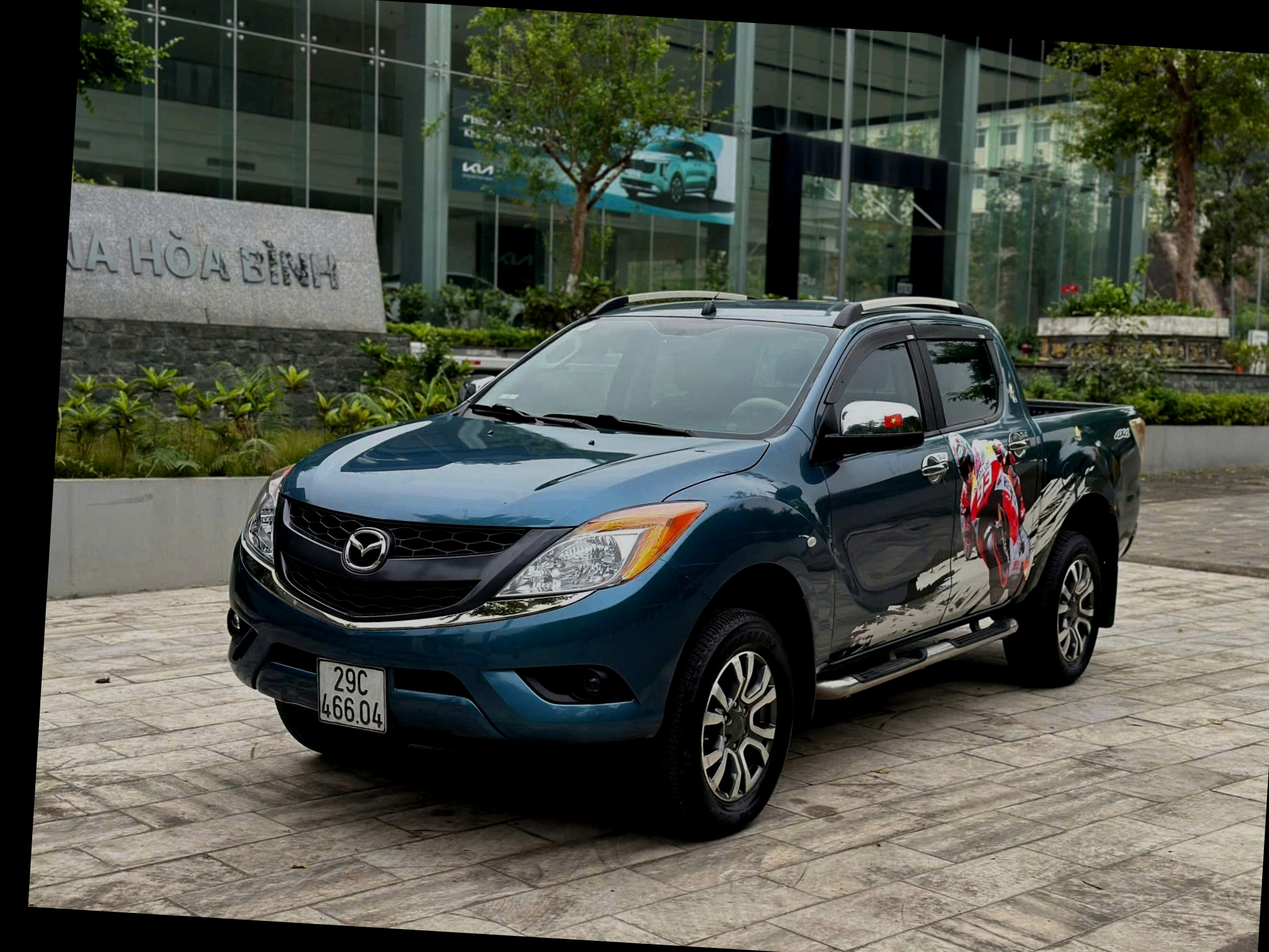Bien-so: (315, 657, 394, 733)
